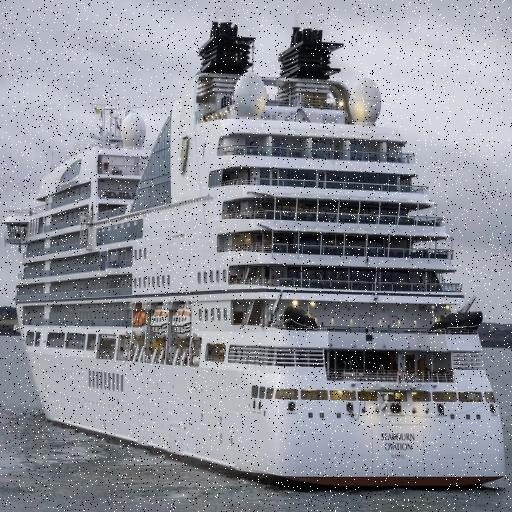cruises: (3, 18, 508, 494)
